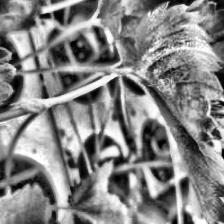Powdery Mildew Leaf: (127, 0, 224, 149)
